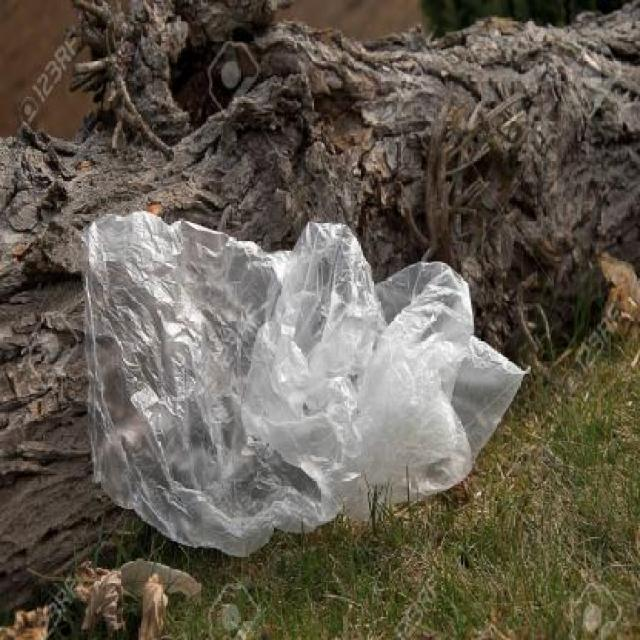plastic bag: (80, 202, 534, 566)
